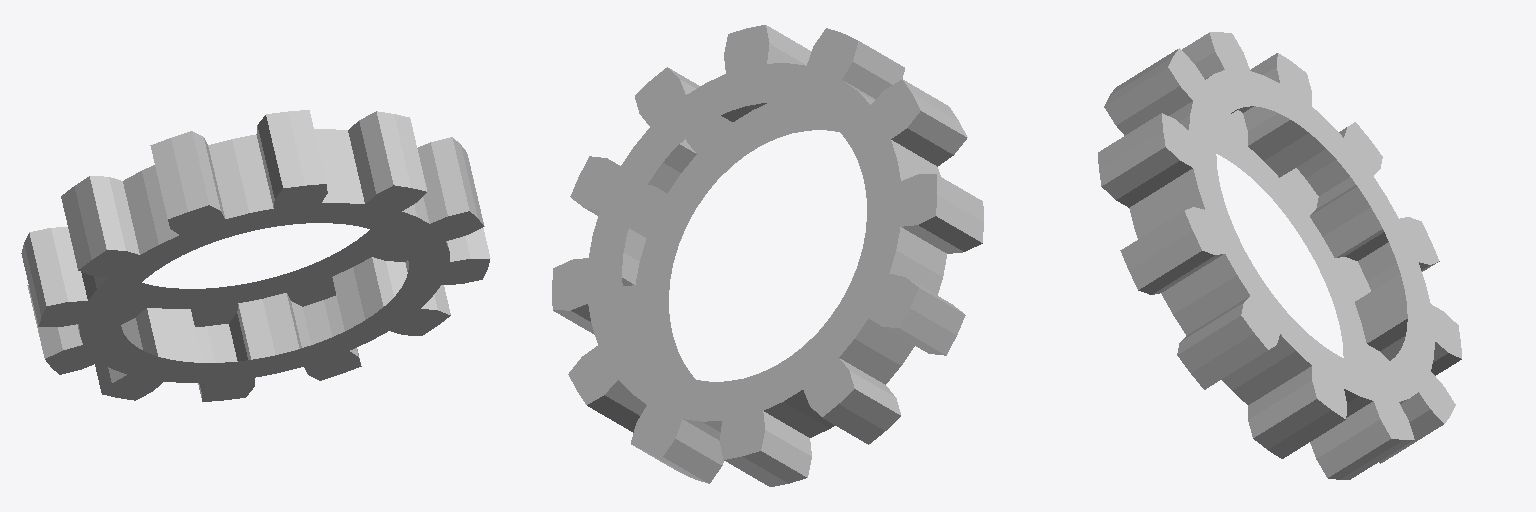
Rendered from gear.obj.
3 renders of one model, left to right at view 1: azimuth 30°, elevation 25°; view 2: azimuth 150°, elevation 25°; view 3: azimuth 270°, elevation 25°, orthographic.
Visible parts, largest first — view 1: Gear; view 2: Gear; view 3: Gear.
Boxes of the visible parts, x1,y1,x2,y2 form: Gear: [21, 110, 490, 401]; Gear: [552, 25, 983, 486]; Gear: [1098, 32, 1461, 479].
Bounding box in the file's own units: 2.23 × 1.98 × 1.73.